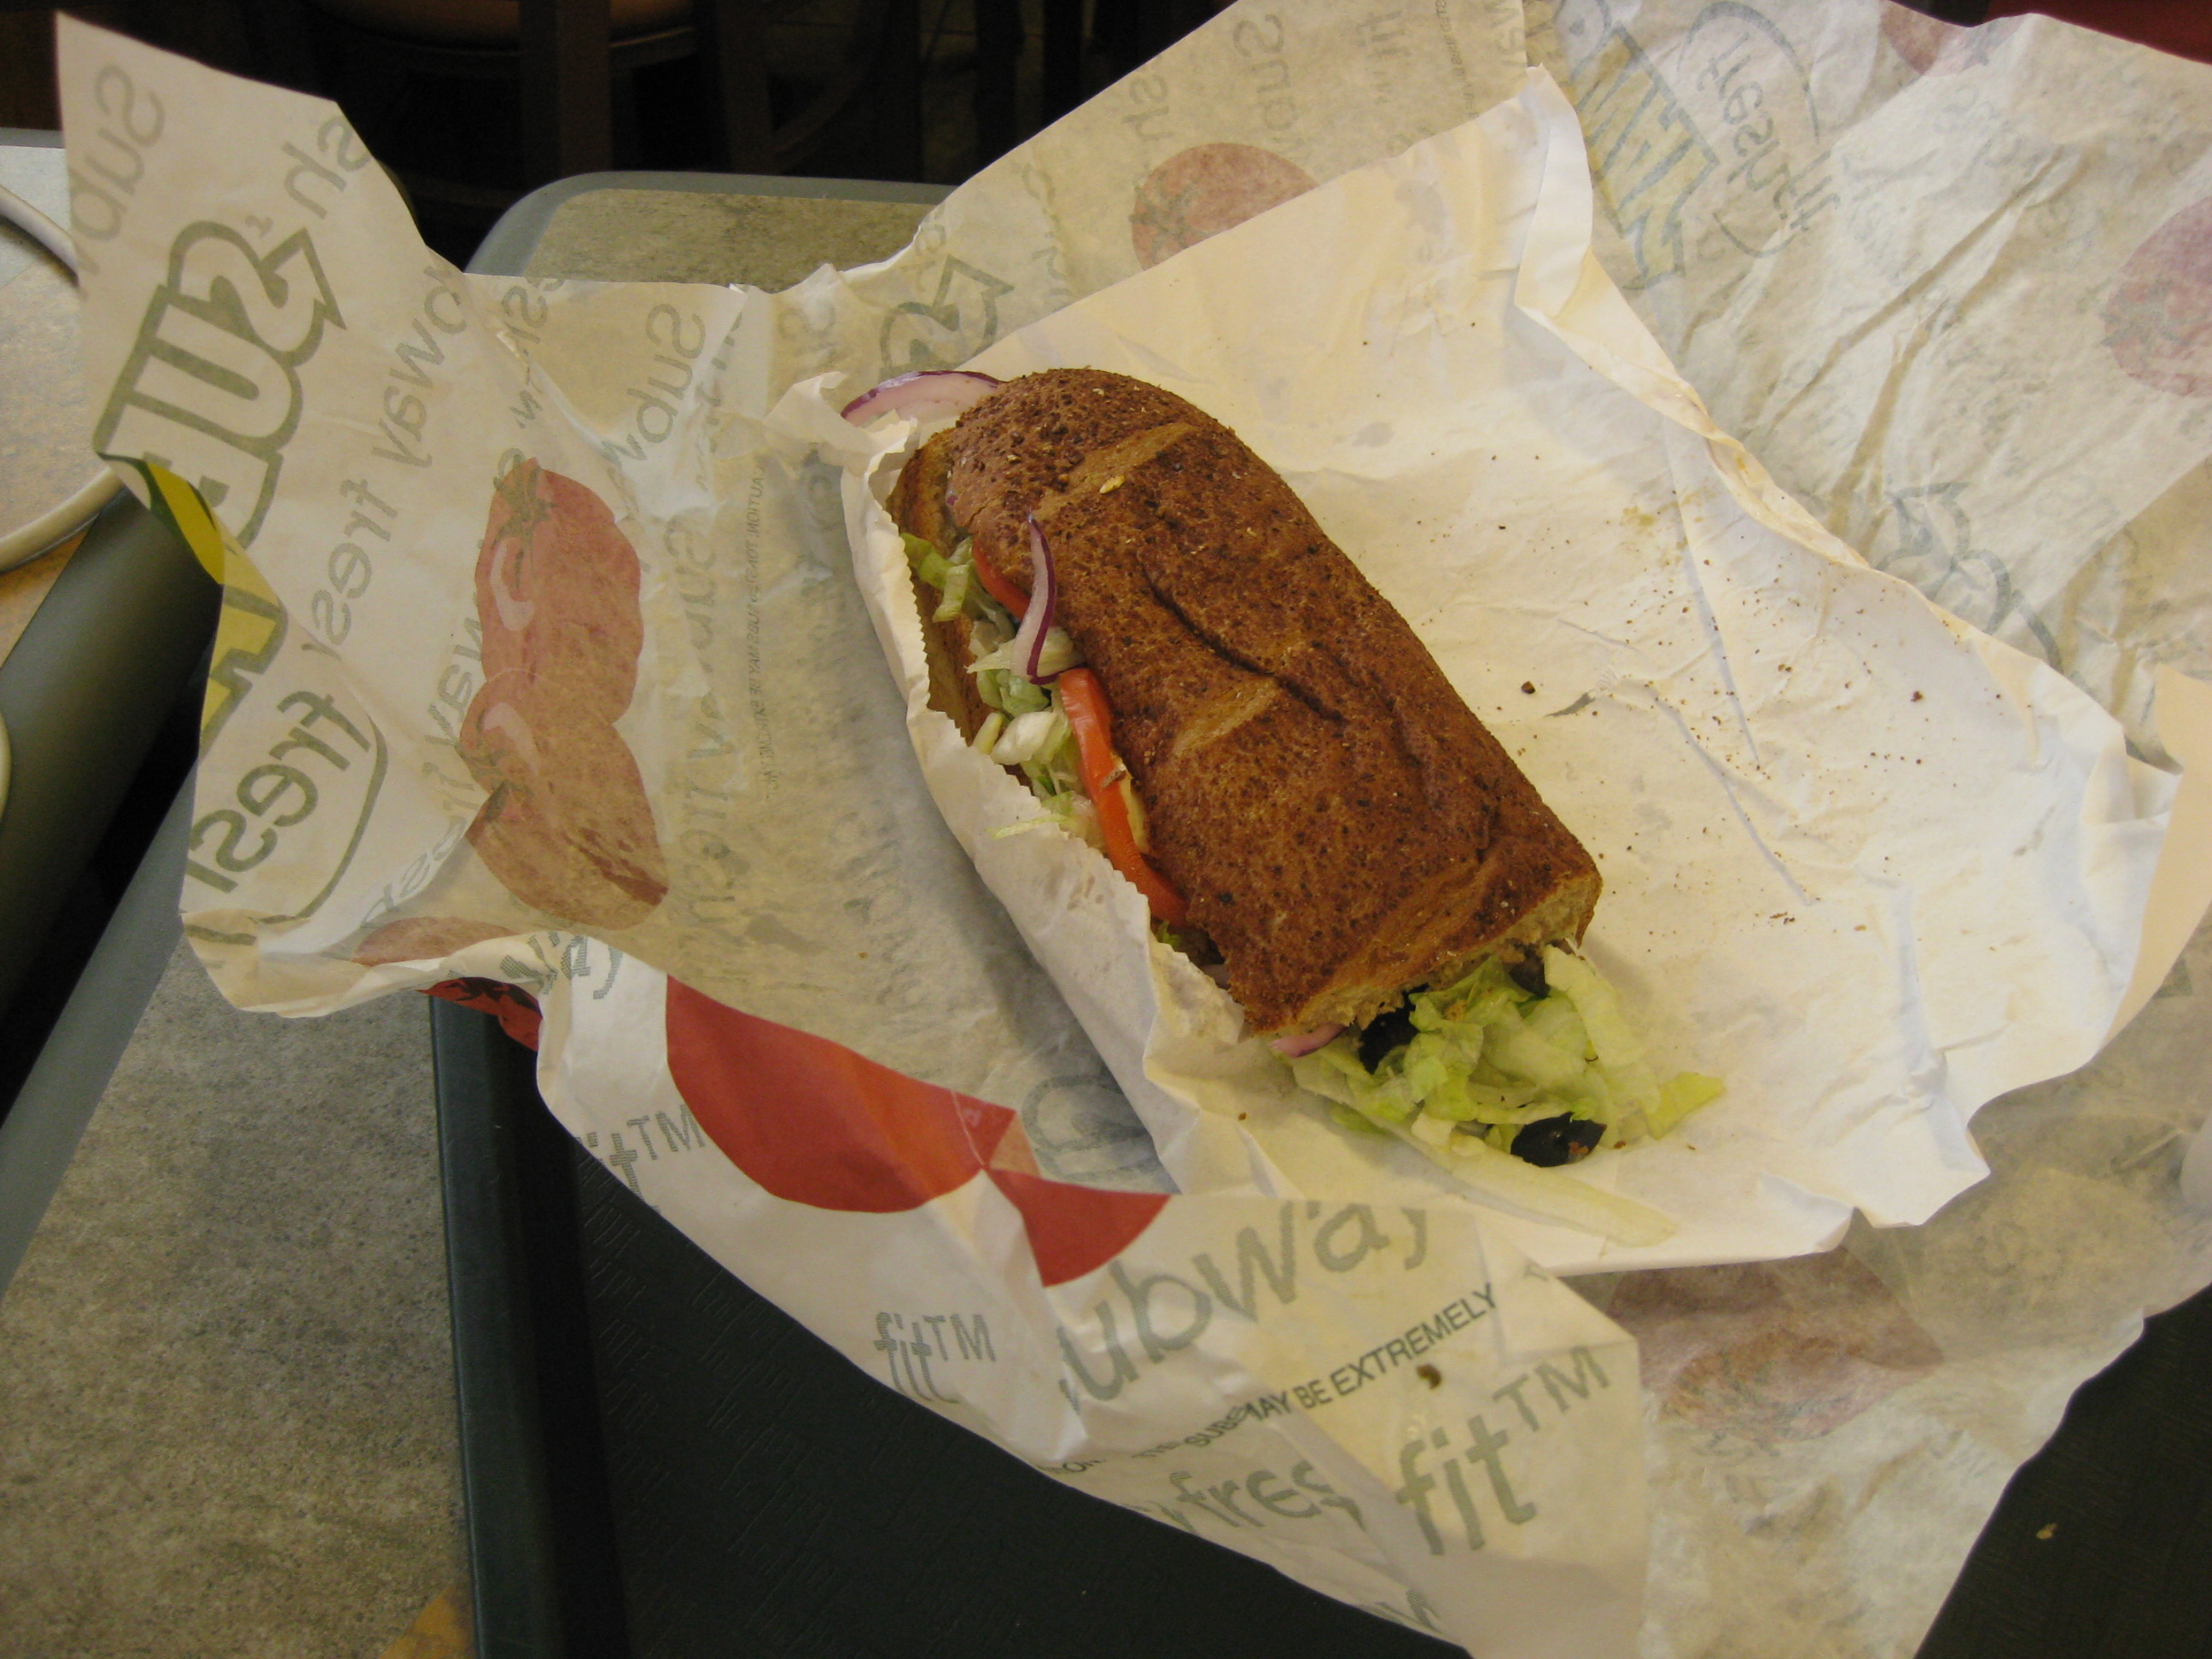sub: (814, 329, 1665, 1146)
